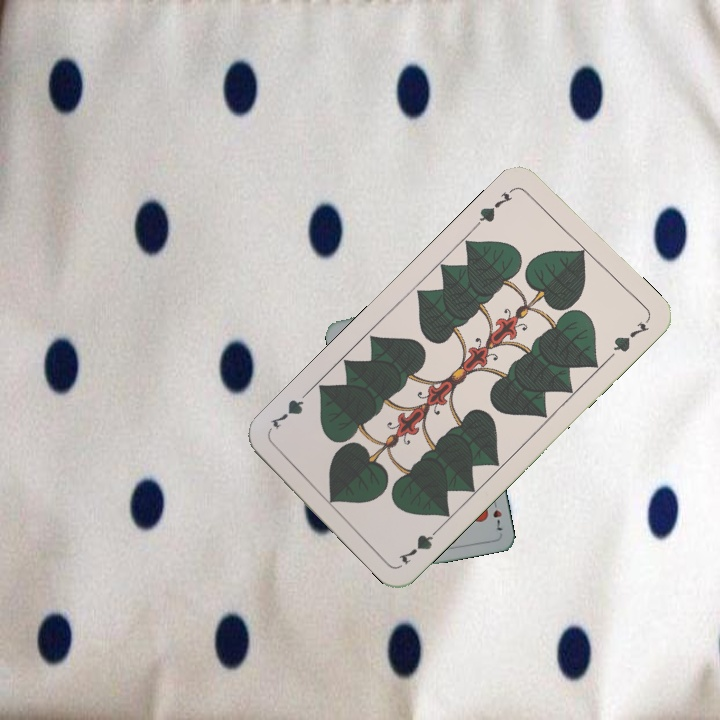G7: (394, 521, 445, 567), (472, 183, 519, 230)
H7: (489, 495, 505, 534)
